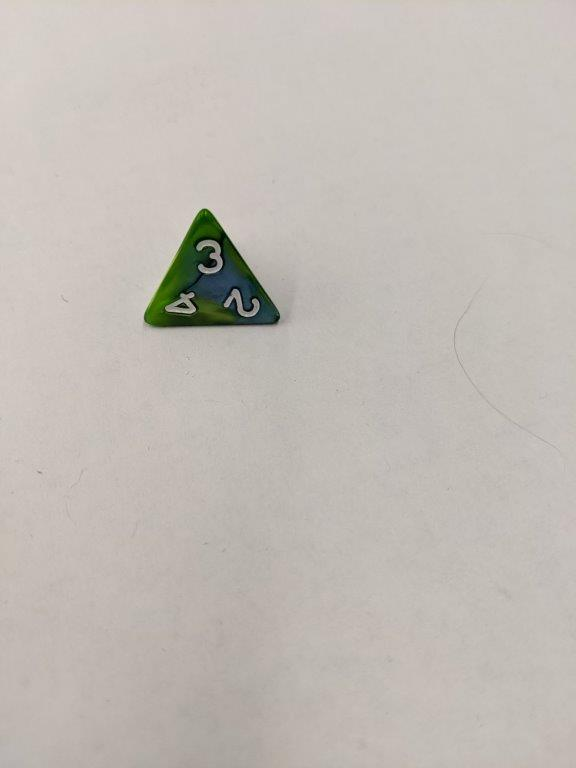d4-3: (137, 208, 283, 335)
